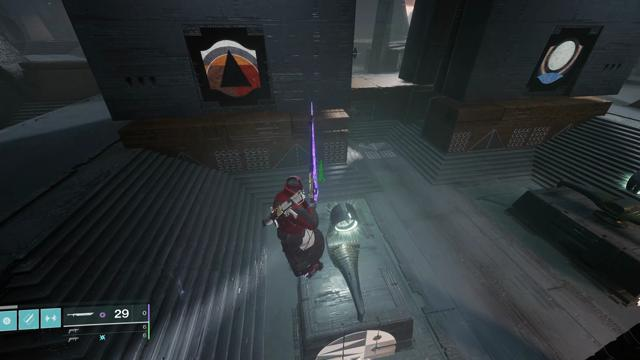pyramid: (201, 40, 261, 97)
traveler: (533, 37, 584, 84)
